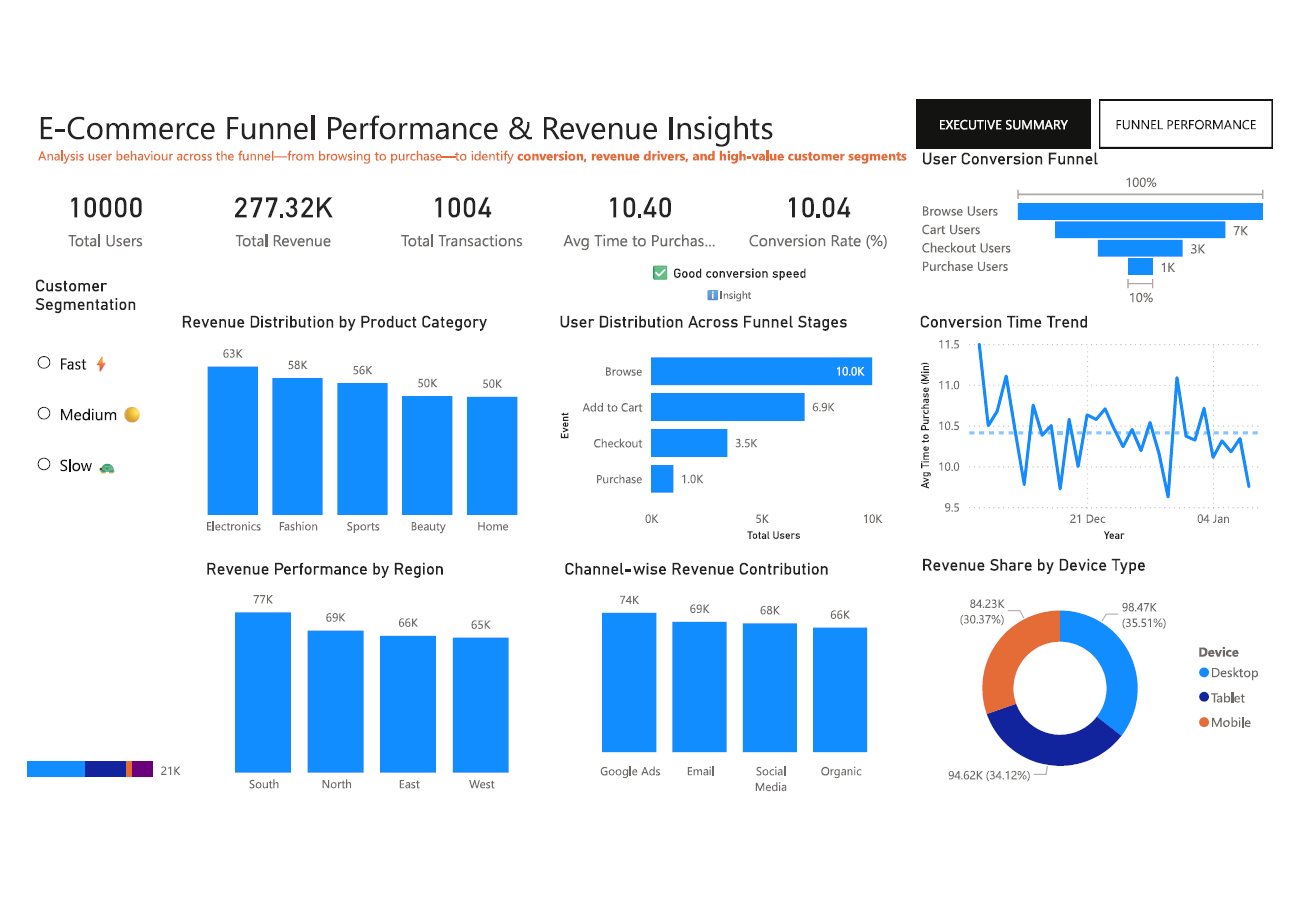

The dashboard page shown, as its layout file describes it:
{"tool":"powerbi","page":{"name":"EXECUTIVE SUMMARY","canvas":[1280,720],"ordinal":0},"visuals":[{"type":"textbox","box":[10.5,0,905.7,81.5],"z":0},{"type":"card","fields":{"Values":["Calculations.Conversion Rate (%)"]},"box":[729.5,69.1,170,100],"z":1000},{"type":"card","fields":{"Values":["Calculations.Total Users"]},"box":[0,69.1,170,100],"z":2000},{"type":"card","fields":{"Values":["Calculations.Total Transactions"]},"box":[364.8,69.1,170,100],"z":3000},{"type":"card","fields":{"Values":["Calculations.Total Revenue"]},"box":[182.4,69.1,170,100],"z":4000},{"type":"funnel","title":"User Conversion Funnel","fields":{"Y":["Calculations.Browse Users","Calculations.Cart Users","Calculations.Checkout Users","Calculations.Purchase Users"]},"box":[916.2,49.9,364.1,165.6],"z":5000},{"type":"listSlicer","title":"Customer Segmentation","fields":{"Values":["User Funnel Table.User Segment"]},"box":[7.9,180.1,155.1,244.5],"z":6000},{"type":"donutChart","title":"Revenue Share by Device Type","fields":{"Category":["funnel_data.Device"],"Y":["Calculations.Total Revenue"]},"box":[915.9,466.3,364.1,253.7],"z":7000},{"type":"clusteredColumnChart","title":"Channel-wise Revenue Contribution","fields":{"Y":["Calculations.Total Revenue"],"Category":["funnel_data.Channel"]},"box":[550.1,470.1,351,248.4],"z":8000},{"type":"clusteredColumnChart","title":"Revenue Performance by Region","fields":{"Category":["funnel_data.Region"],"Y":["Calculations.Total Revenue"]},"box":[182.7,470.1,352.3,248.4],"z":9000},{"type":"clusteredColumnChart","title":"Revenue Distribution by Product Category","fields":{"Category":["funnel_data.Product Category"],"Y":["Calculations.Total Revenue"]},"box":[157.7,216.9,382.5,237.9],"z":10000},{"type":"card","fields":{"Values":["Calculations.Avg Time to Purchase (Min)"]},"box":[547.1,69.1,170,100],"z":11000},{"type":"barChart","fields":{"Y":["Calculations.Browse Users","Calculations.Cart Users","Calculations.Purchase Users","Calculations.Checkout Users"]},"box":[0,645.4,169.6,73.6],"z":12000},{"type":"clusteredBarChart","title":"User Distribution Across Funnel Stages","fields":{"Category":["funnel_data.Event"],"Y":["Calculations.Total Users"]},"box":[545.5,216.9,364.1,240.5],"z":13000},{"type":"lineChart","title":"Conversion Time Trend","fields":{"Y":["Calculations.Avg Time to Purchase (Min)"],"Category":["User Funnel Table.Browse Time.Variation.Date Hierarchy.Year","User Funnel Table.Browse Time.Variation.Date Hierarchy.Quarter","User Funnel Table.Browse Time.Variation.Date Hierarchy.Month","User Funnel Table.Browse Time.Variation.Date Hierarchy.Day"]},"box":[913.5,216.9,364.1,240.5],"z":14000},{"type":"card","title":"Insights","fields":{"Values":["Calculations.Time Insight"]},"box":[546.8,153.8,352.3,63.1],"z":15000},{"type":"pageNavigator","box":[915.6,0,364.5,49.8],"z":16001}]}

Visuals, with their boxes on the page's 1280x720 design canvas (x1, y1, x2, y2). These are canvas units, not pixel positions in the 1296x910 screenshot, which may show the page scaled, cropped or inside an application window:
textbox: 10, 0, 916, 82
card - Calculations.Conversion Rate (%): 730, 69, 900, 169
card - Calculations.Total Users: 0, 69, 170, 169
card - Calculations.Total Transactions: 365, 69, 535, 169
card - Calculations.Total Revenue: 182, 69, 352, 169
"User Conversion Funnel" funnel: 916, 50, 1280, 216
"Customer Segmentation" listSlicer: 8, 180, 163, 425
"Revenue Share by Device Type" donutChart: 916, 466, 1280, 720
"Channel-wise Revenue Contribution" clusteredColumnChart: 550, 470, 901, 718
"Revenue Performance by Region" clusteredColumnChart: 183, 470, 535, 718
"Revenue Distribution by Product Category" clusteredColumnChart: 158, 217, 540, 455
card - Calculations.Avg Time to Purchase (Min): 547, 69, 717, 169
barChart - Calculations.Browse Users x Calculations.Cart Users: 0, 645, 170, 719
"User Distribution Across Funnel Stages" clusteredBarChart: 546, 217, 910, 457
"Conversion Time Trend" lineChart: 914, 217, 1278, 457
"Insights" card: 547, 154, 899, 217
pageNavigator: 916, 0, 1280, 50
